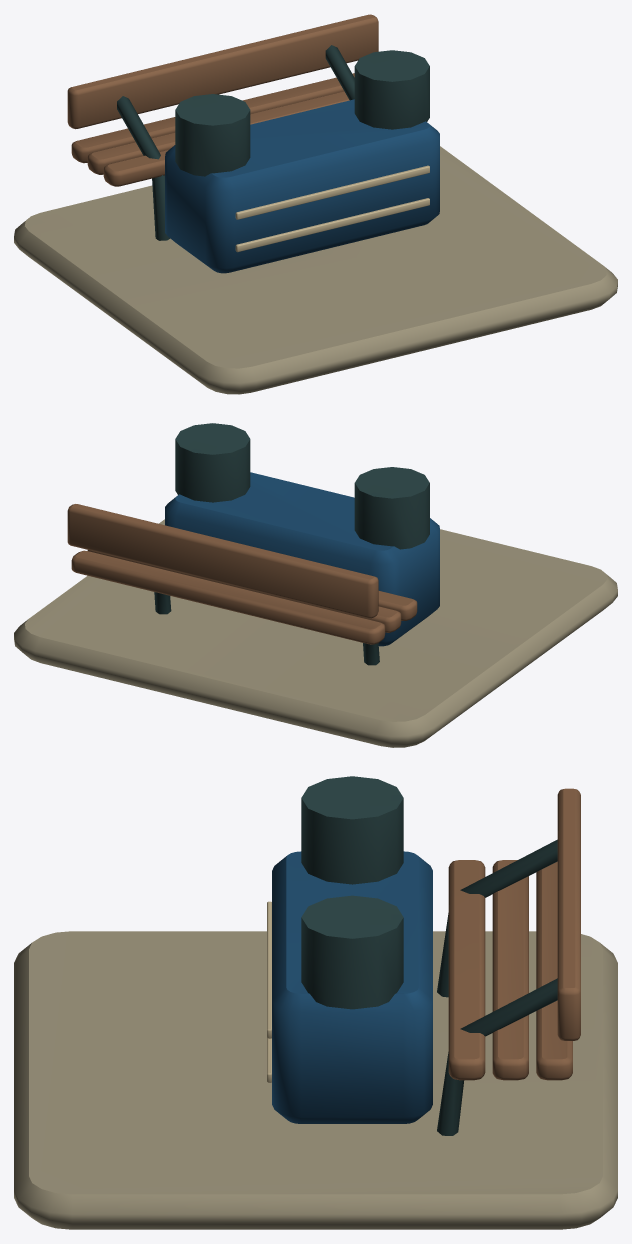
Rendered from metro_dealership_1.glb.
The picture shows the model from 3 angles, top to bottom: view 1: azimuth 30°, elevation 25°; view 2: azimuth 150°, elevation 25°; view 3: azimuth 270°, elevation 25°; orthographic projection. The views are drawn at different scales.
Parts seen in each view (by area): view 1: Dealership1; view 2: Dealership1; view 3: Dealership1.
Boxes of the visible parts, <box> form: Dealership1: <box>14,14,617,394</box>; Dealership1: <box>14,423,617,747</box>; Dealership1: <box>14,776,617,1229</box>.
Bounding box in the file's own units: 2.68 × 1.09 × 2.48.
